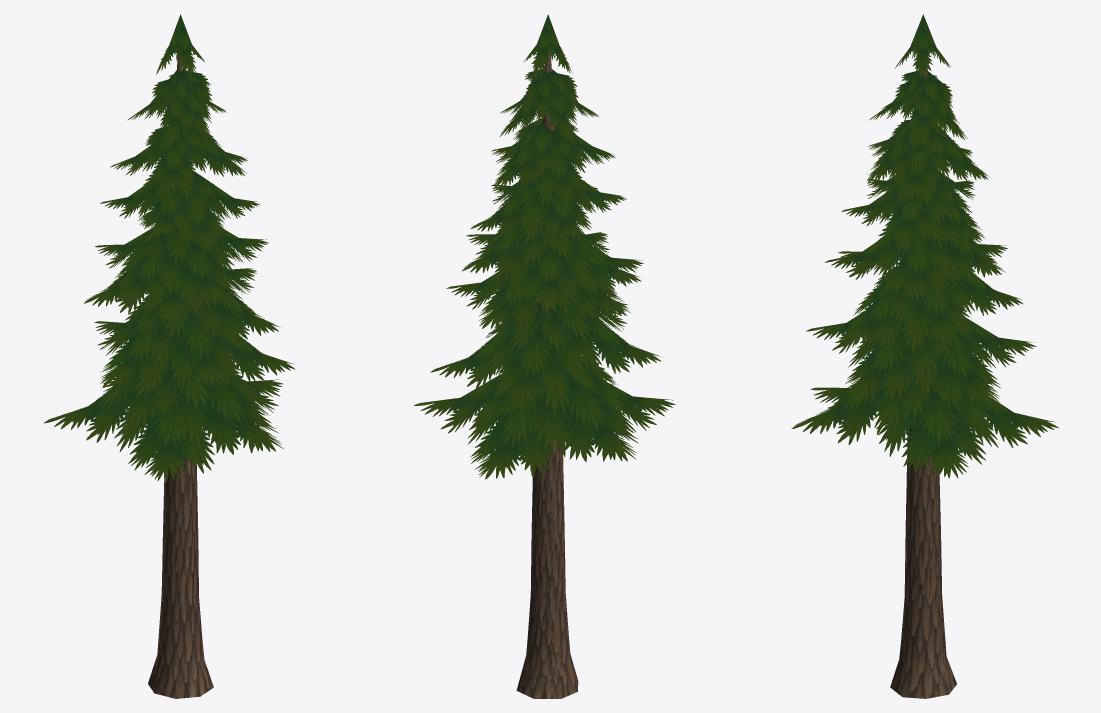
File: Spruce01.fbx
3 views of the same model, side by side, from view 1: azimuth 30°, elevation 25°; view 2: azimuth 150°, elevation 25°; view 3: azimuth 270°, elevation 25° (orthographic).
Visible parts, largest first — view 1: Spruce01_LOD0; view 2: Spruce01_LOD0; view 3: Spruce01_LOD0.
Part boxes in pixels (box(x1,y1,x2,y2)): Spruce01_LOD0: box(44, 14, 294, 698); Spruce01_LOD0: box(414, 14, 675, 698); Spruce01_LOD0: box(791, 14, 1058, 698).
Size of what is drawn, in the model's own units: 2.41 by 5.21 by 2.36.
